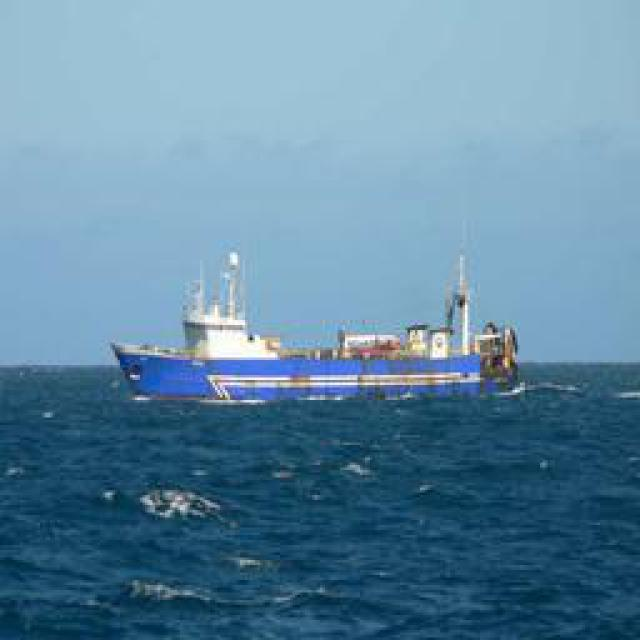Ship: (106, 246, 529, 409)
